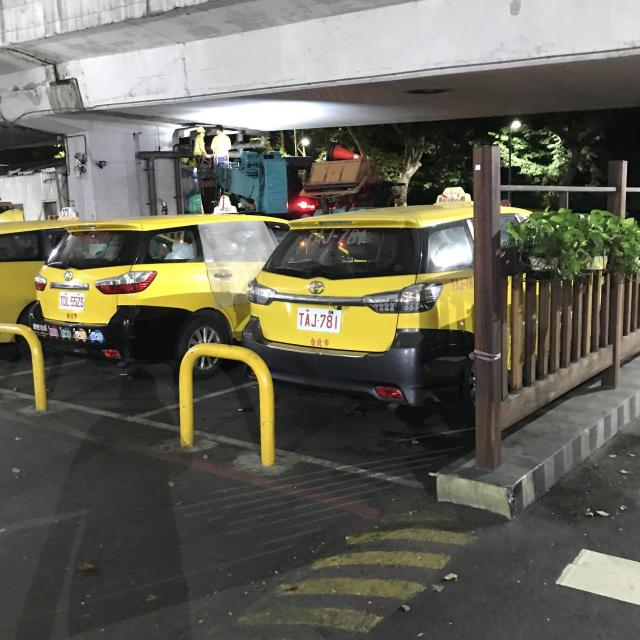WR: (295, 307, 344, 332), (58, 290, 84, 311)
